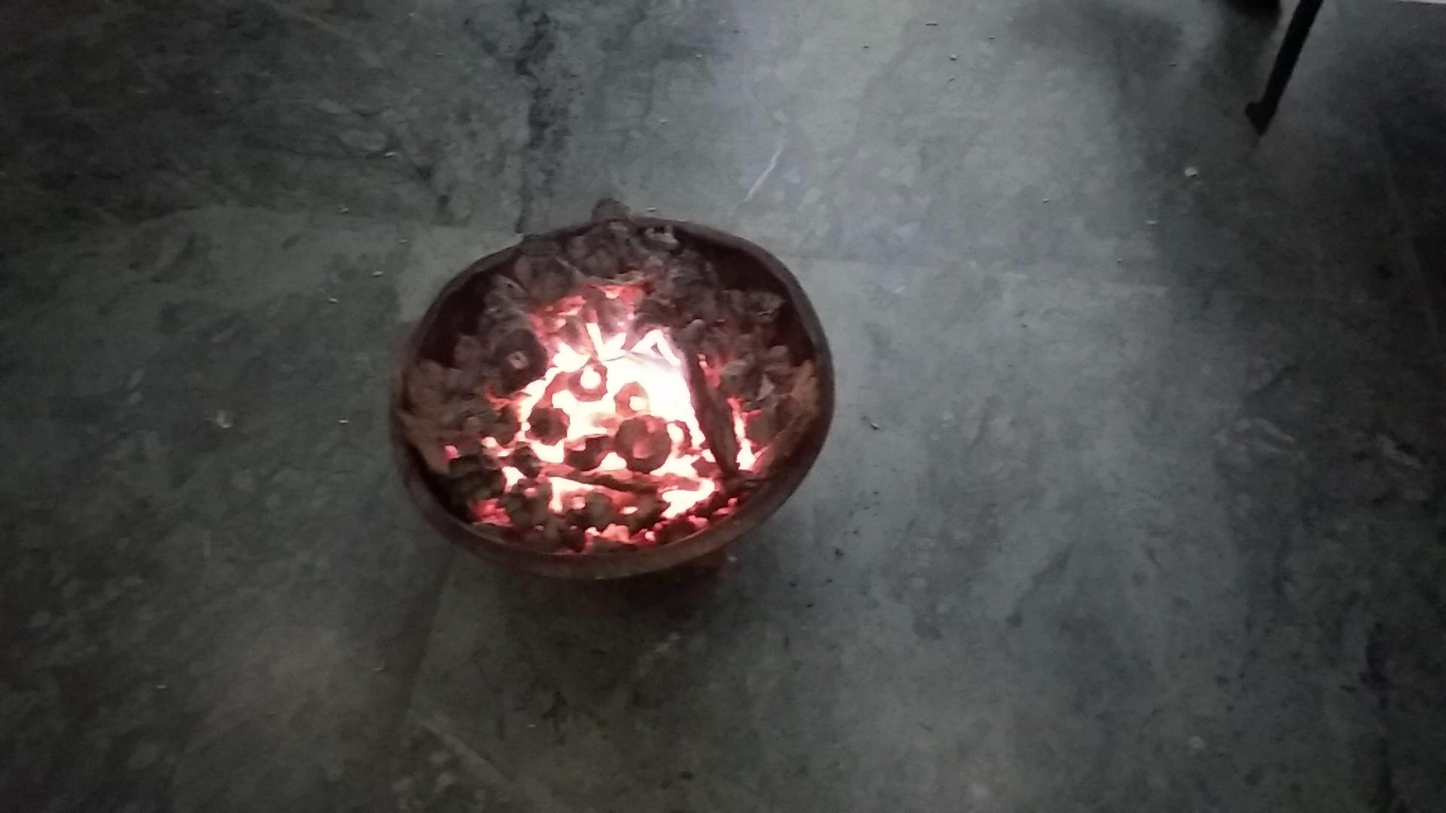fire: (464, 289, 762, 547)
